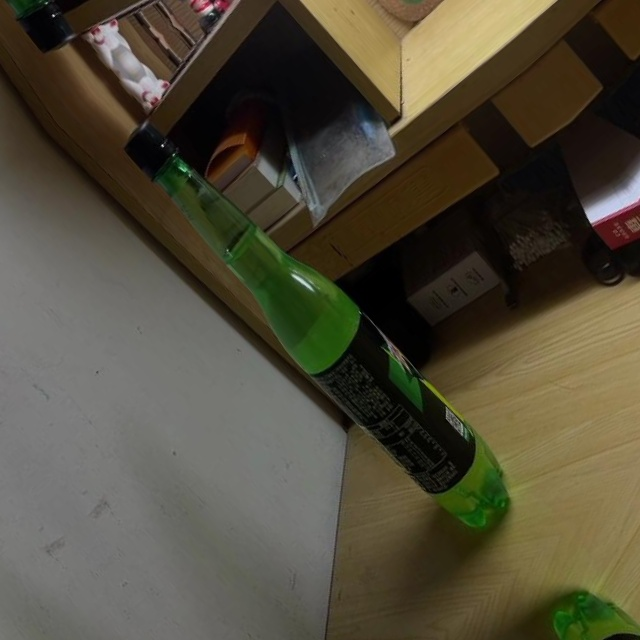Mountain-Dew: (111, 82, 533, 559)
